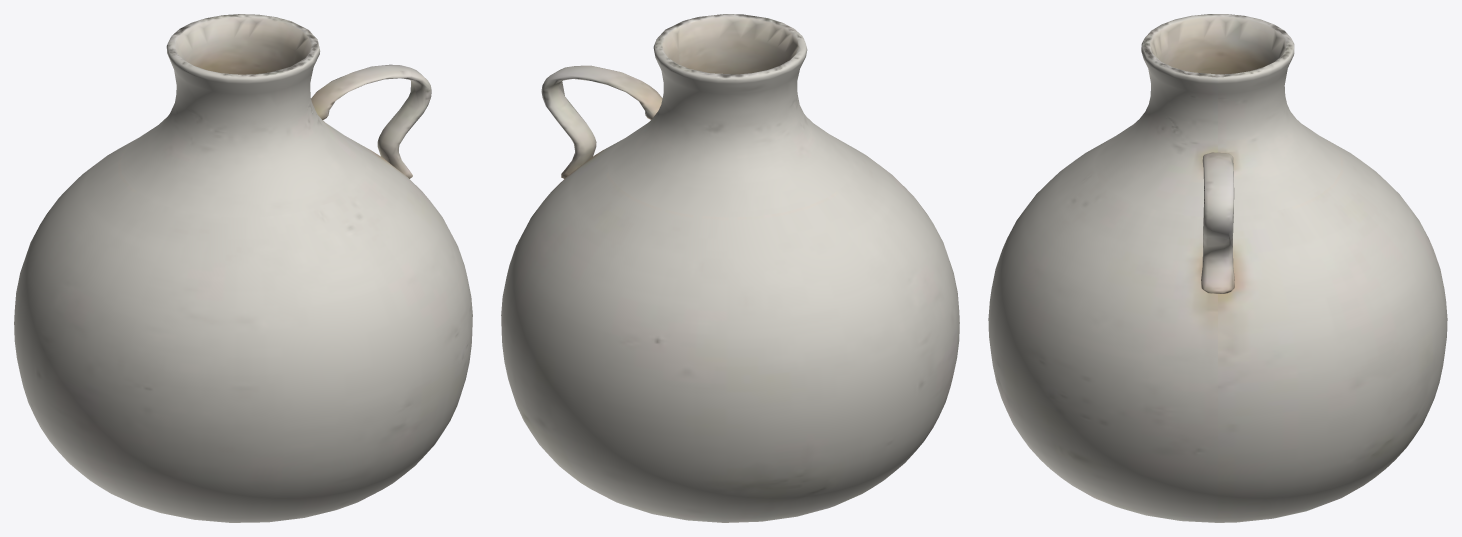
The model's file is ph-ceramic-vase-04.glb.
The picture shows the model from 3 angles, left to right: view 1: azimuth 30°, elevation 25°; view 2: azimuth 150°, elevation 25°; view 3: azimuth 270°, elevation 25°; orthographic projection.
Visible parts, largest first — view 1: ceramic_vase_04; view 2: ceramic_vase_04; view 3: ceramic_vase_04.
Boxes of the visible parts, x1,y1,x2,y2 form: ceramic_vase_04: [14, 14, 472, 522]; ceramic_vase_04: [501, 14, 959, 522]; ceramic_vase_04: [988, 14, 1447, 522].
Size of the model in its own units: 1 by 1 by 1.
Materials: 1 (1 with a texture image).
